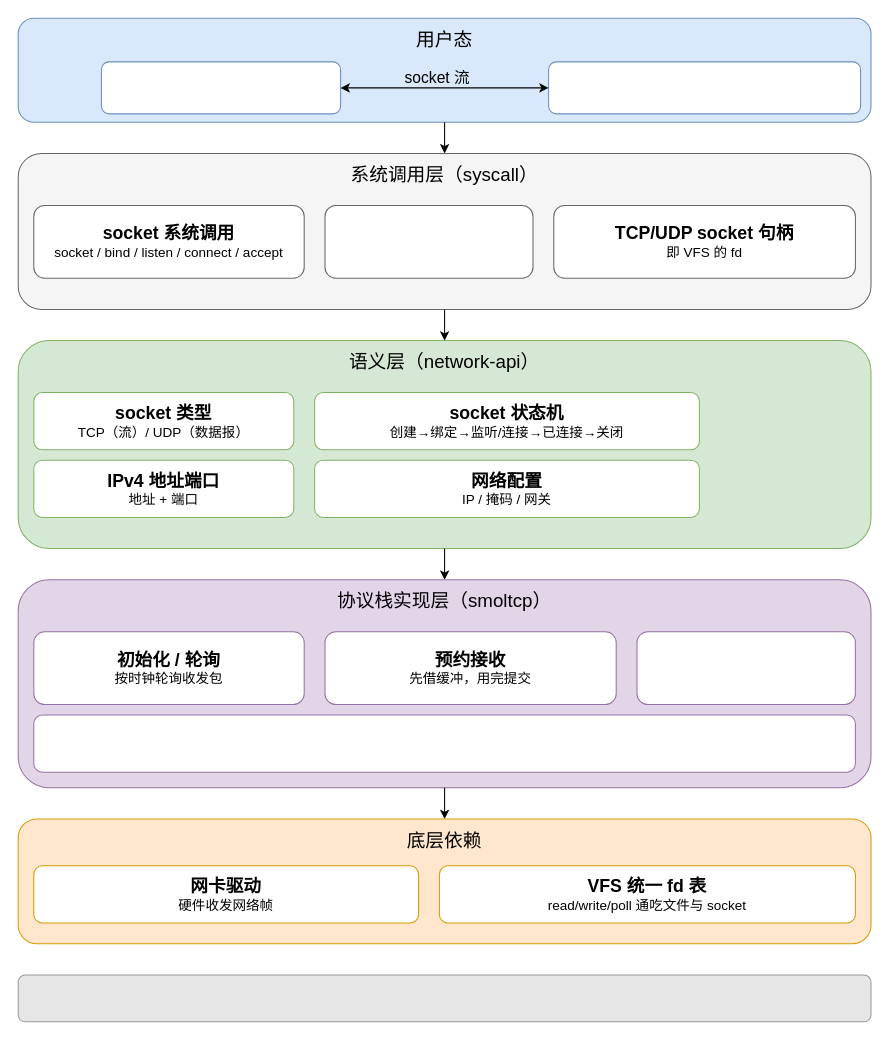
The diagram is 889 pixels wide and 1040 high, and some of its shapes have lost their labels. Here are the shapes that lost their labels. From the top down, the centre of each, then its label:
the point at 220,87: 客户端进程 connect → send / recv
the point at 704,87: 服务器进程 bind → listen → accept
the point at 428,241: socket 共享句柄 协议栈句柄封装
the point at 745,668: TCP / UDP 传输层 流 / 数据报语义
the point at 444,743: 网卡适配 驱动收发帧，协议栈管 IP/TCP/UDP
the point at 444,998: 注：协议栈按时钟轮询处理，非每字节中断；socket 即 fd；接收用预约模型（借缓冲→提交），非阻塞映射 EAGAIN。
